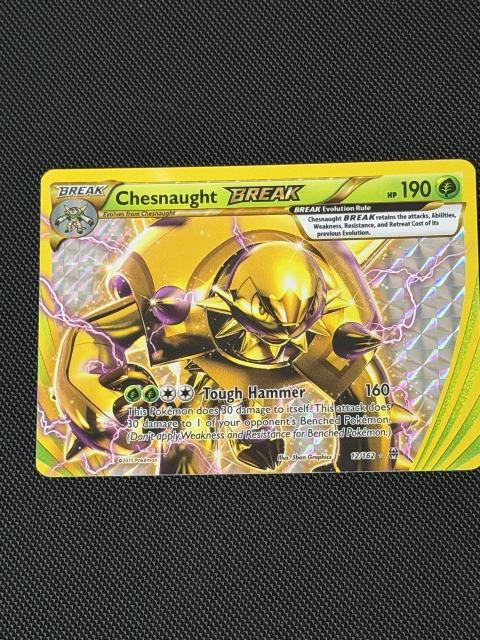Card: (31, 155, 480, 482)
Name: (114, 180, 308, 211)
